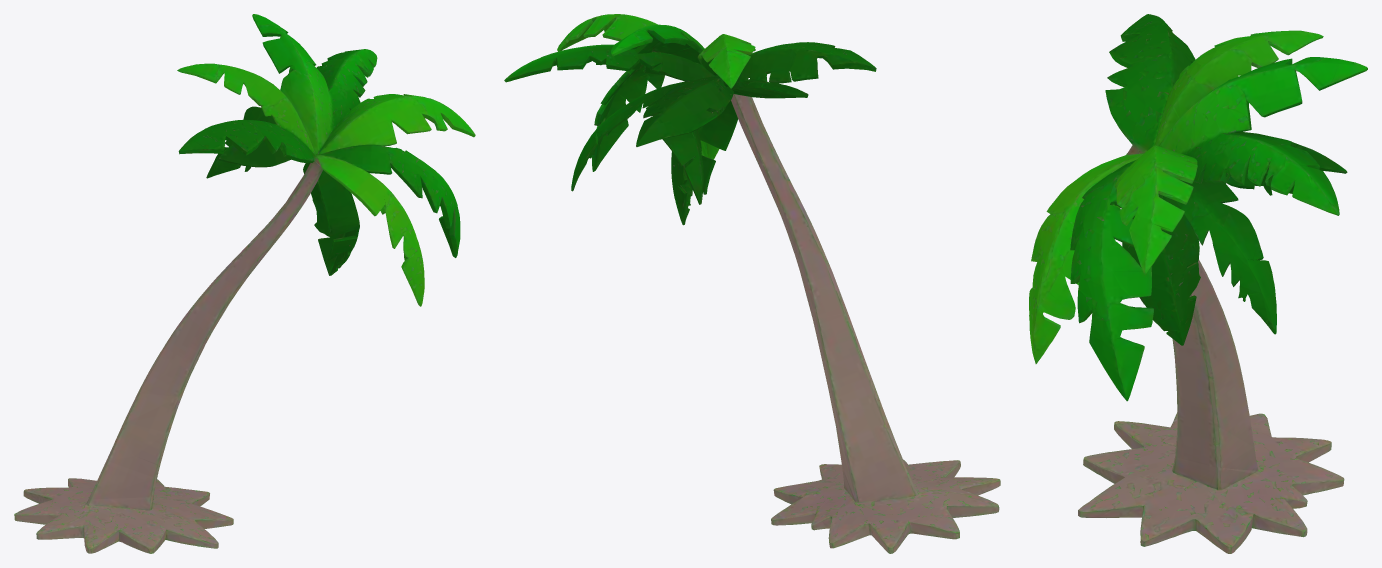
The model's file is palm-bend.glb.
3 renders of one model, left to right at view 1: azimuth 30°, elevation 25°; view 2: azimuth 150°, elevation 25°; view 3: azimuth 270°, elevation 25°, orthographic. The views are drawn at different scales.
Parts seen in each view (by area): view 1: geometry_0; view 2: geometry_0; view 3: geometry_0.
Boxes of the visible parts, <box> form: geometry_0: <box>14,14,475,553</box>; geometry_0: <box>504,14,1000,553</box>; geometry_0: <box>1029,14,1367,553</box>.
Bounding box in the file's own units: 1 × 0.9646 × 0.5352.
Materials: 1 (1 with a texture image).
